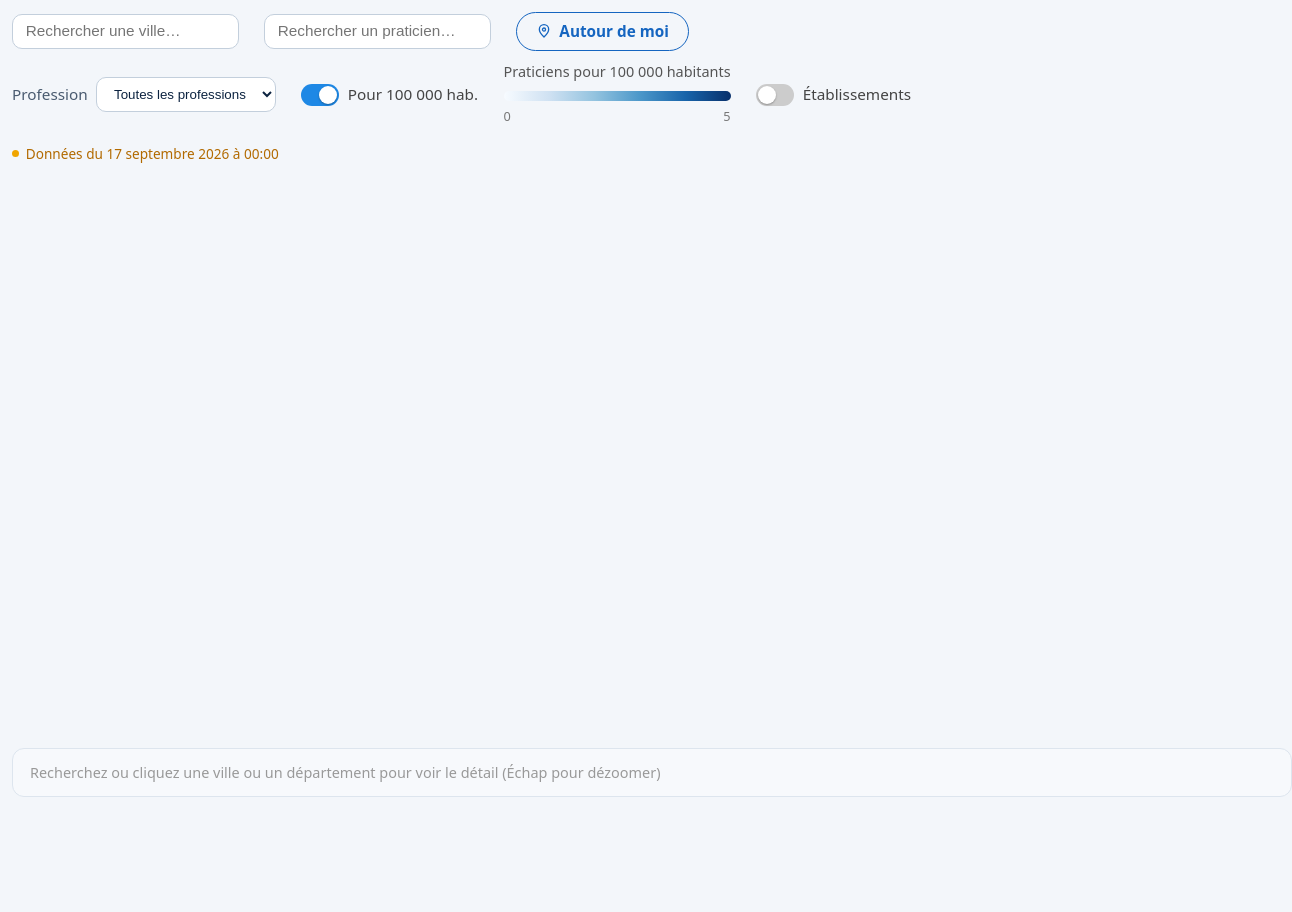
Scenario: LeafletFranceMap › spécialités, densité et « autour de moi » › colore par densité par défaut ; la bascule recolore en place et change la légende
Click the checkbox labelled "Pour 100 000 hab.".
click(390, 95)  # box [301,82,478,107]
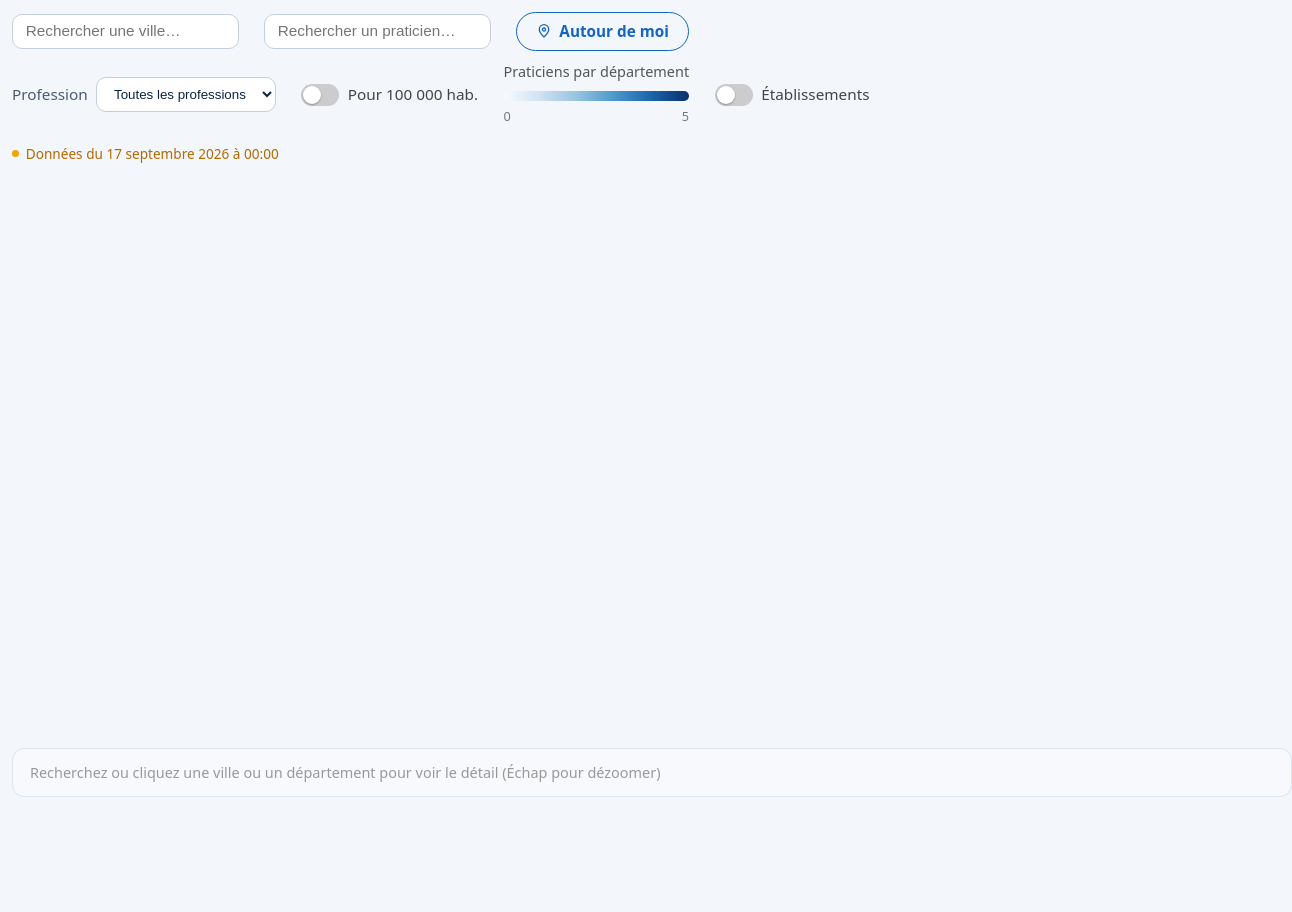
Expected: the text "Praticiens par département" is shown, [504,59,689,85]
